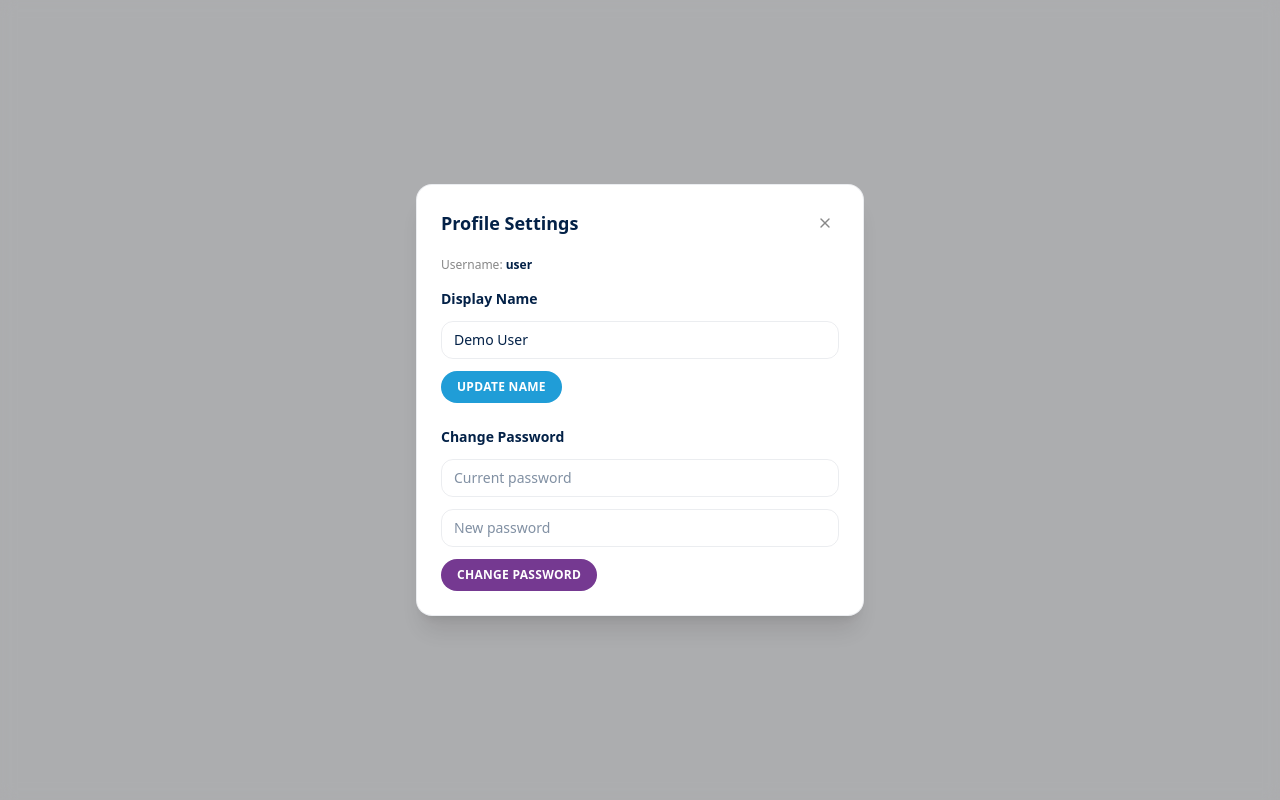
Test: ProfileSettings › changes password successfully
Type "oldpass" into the password field labelled "Current password" at (640, 478), box [441,459,839,497]
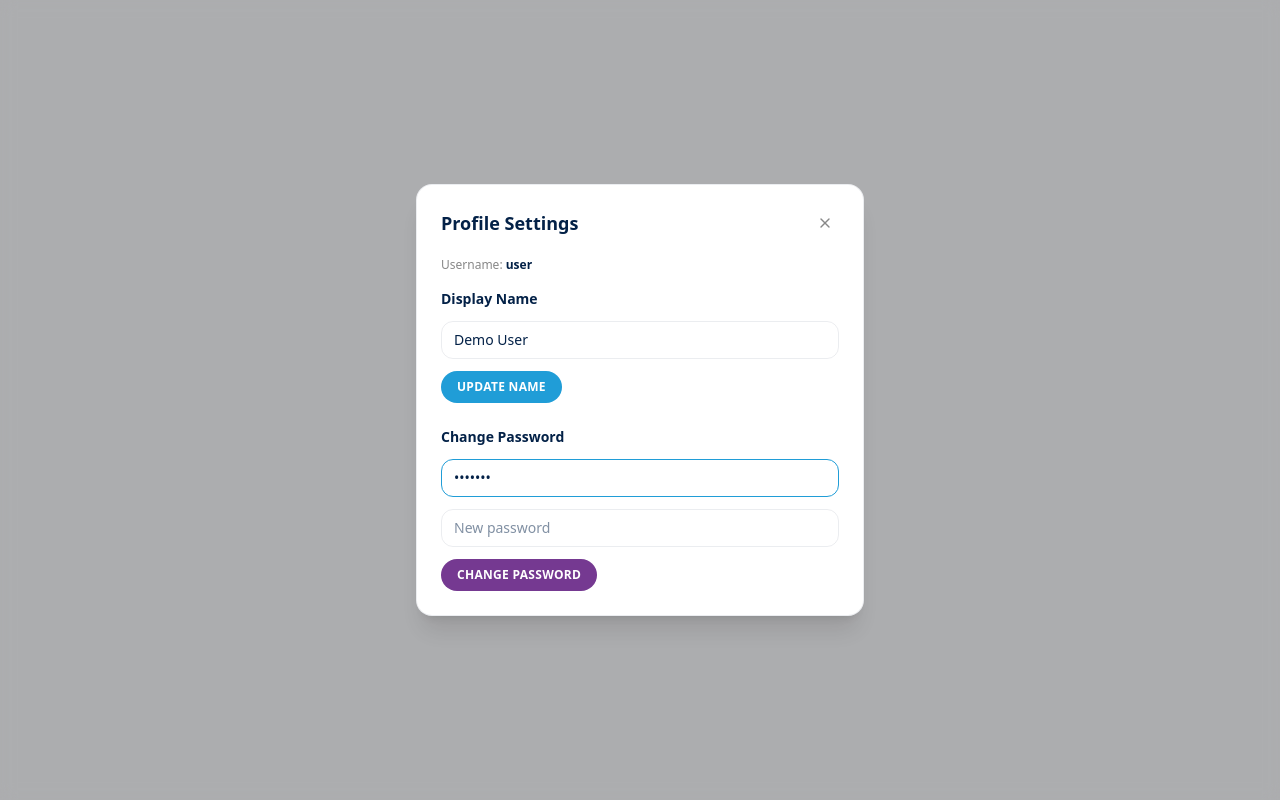
Type "newpass1" into the password field labelled "New password" at (640, 528), box [441,509,839,547]
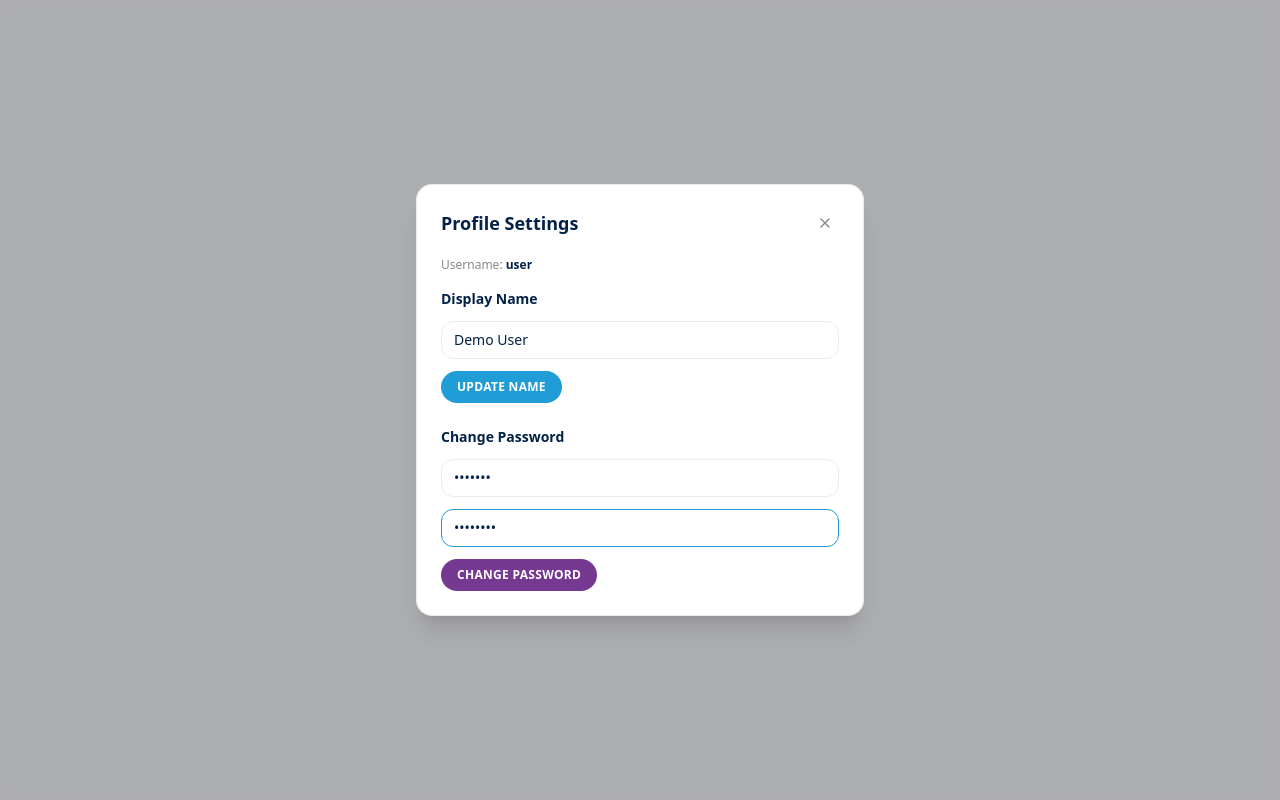
Click the button "Change Password" at (519, 575), box [441,559,597,591]
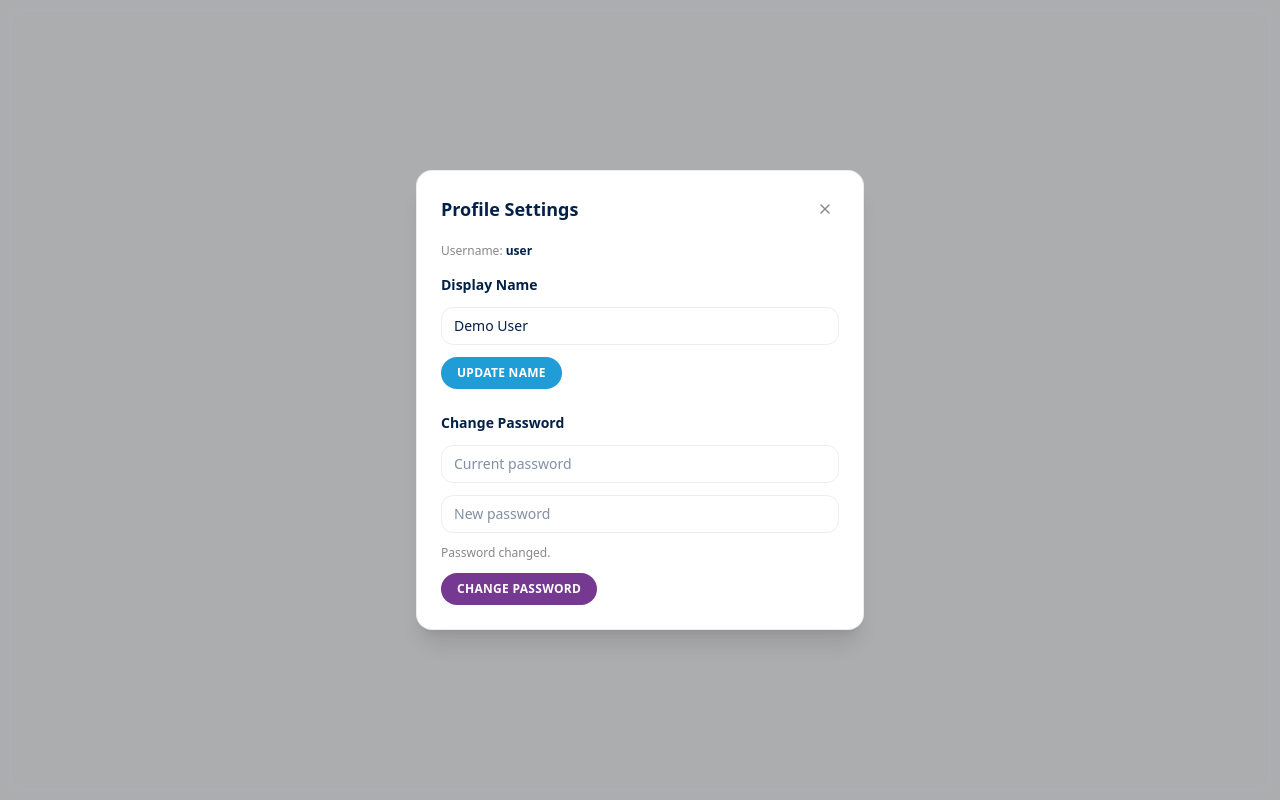
Now the text "Password changed." is shown, box [441,544,550,561]
